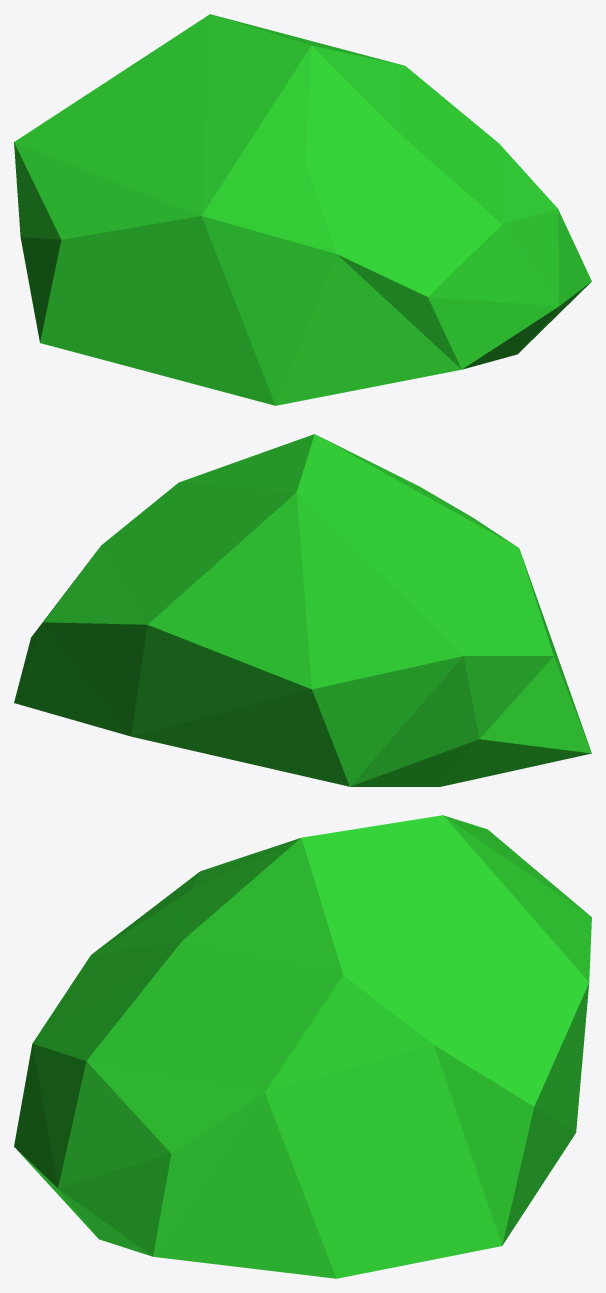
Rendered from tradBoll.dae.
The picture shows the model from 3 angles, top to bottom: view 1: azimuth 30°, elevation 25°; view 2: azimuth 150°, elevation 25°; view 3: azimuth 270°, elevation 25°; orthographic projection. The views are drawn at different scales.
Visible parts, largest first — view 1: Cube; view 2: Cube; view 3: Cube.
Boxes of the visible parts, x1,y1,x2,y2 form: Cube: (14,14,591,405); Cube: (14,434,591,786); Cube: (14,815,591,1278).
Bounding box in the file's own units: 12.54 × 10.06 × 6.67.
